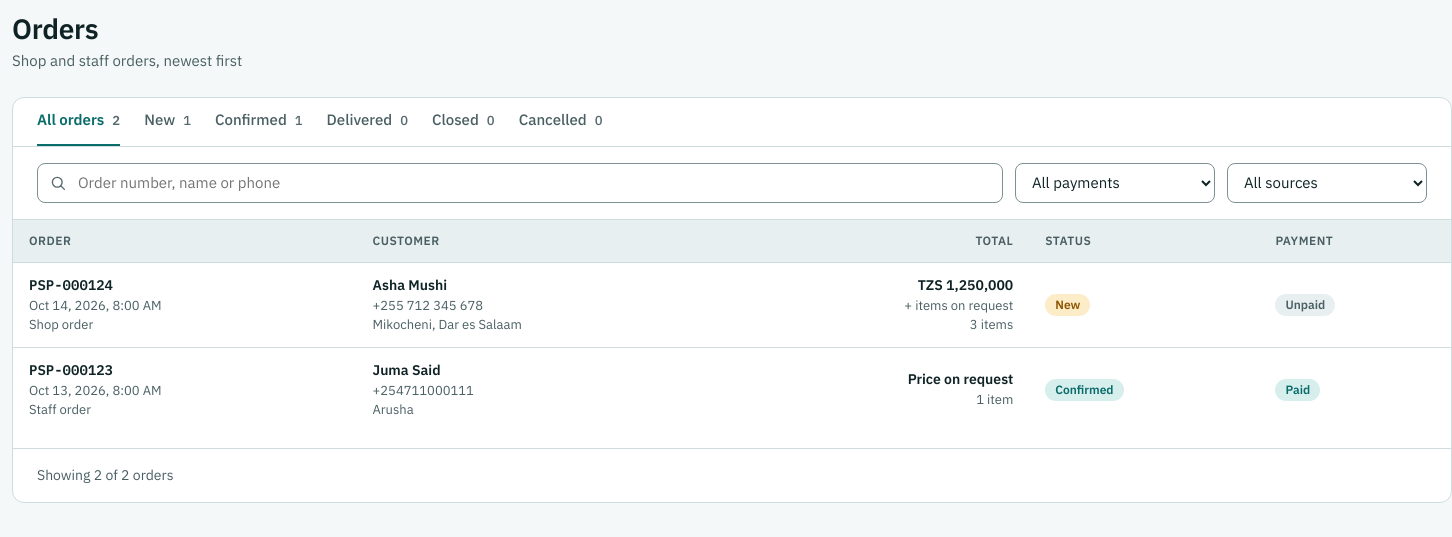
Test: OrdersList › says when nothing matches, and Clear filters brings the list back
Check: the table is shown, box [13, 220, 1451, 432]
Step 1. Select "Staff" in the 2nd dropdown named "Source" → (1327, 182), box [1227, 162, 1427, 202]
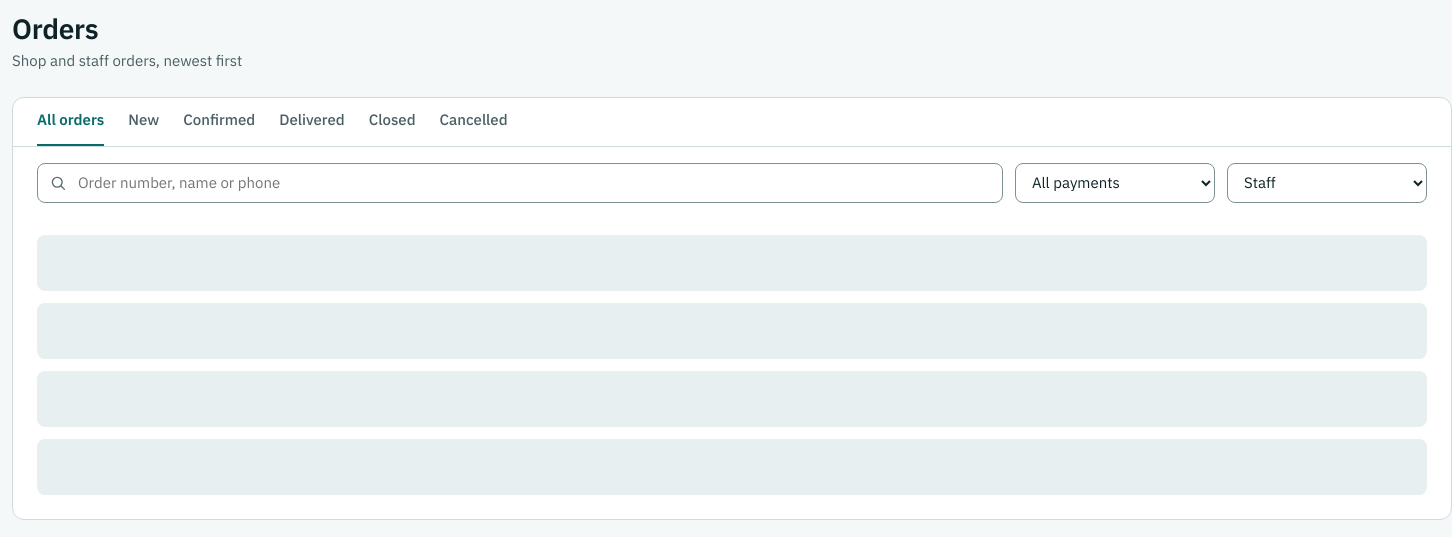
Step 2. Type "nobody" into the search field named "Search by order number, name or phone" → (520, 182), box [37, 162, 1003, 202]
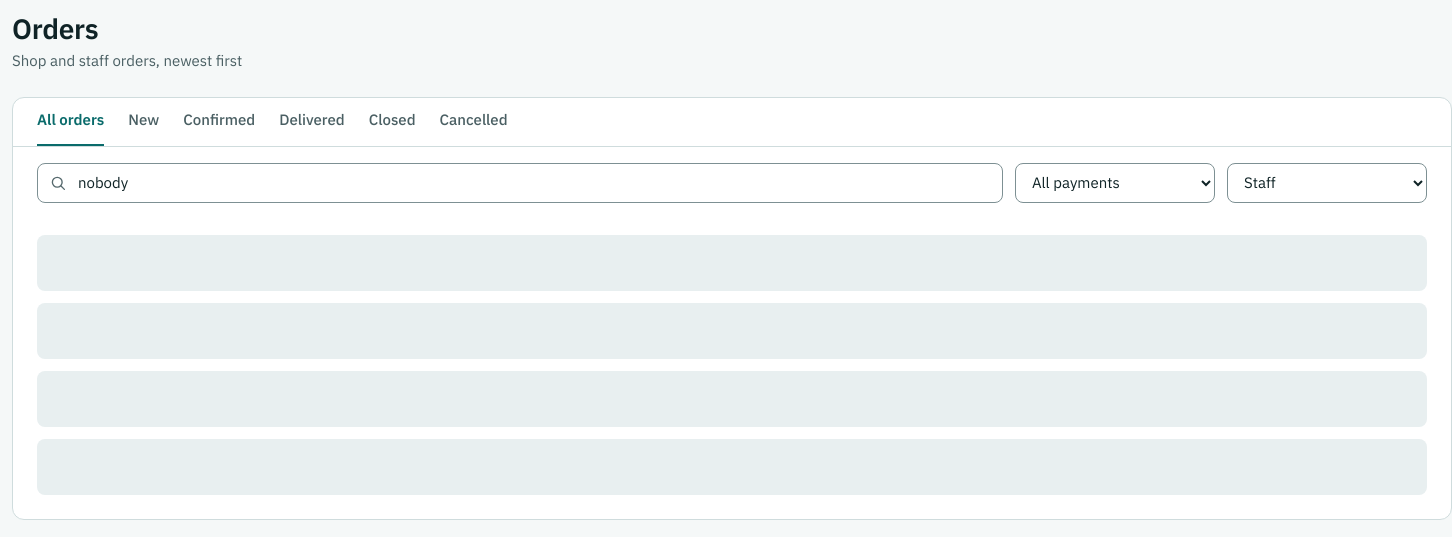
Step 3. Submit the form from the search field named "Search by order number, name or phone", box [37, 162, 1003, 202]
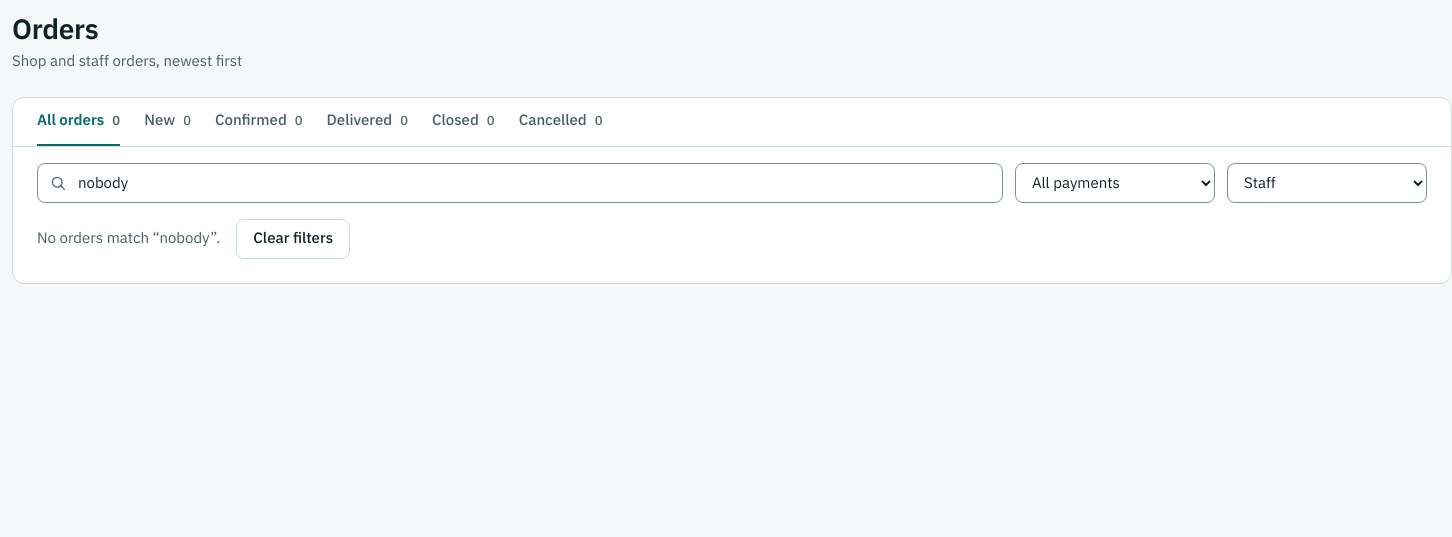
Check: the text "No orders match “nobody”." is shown, box [37, 227, 220, 250]
Step 4. Click the button "Clear filters" → (293, 238), box [236, 218, 350, 258]
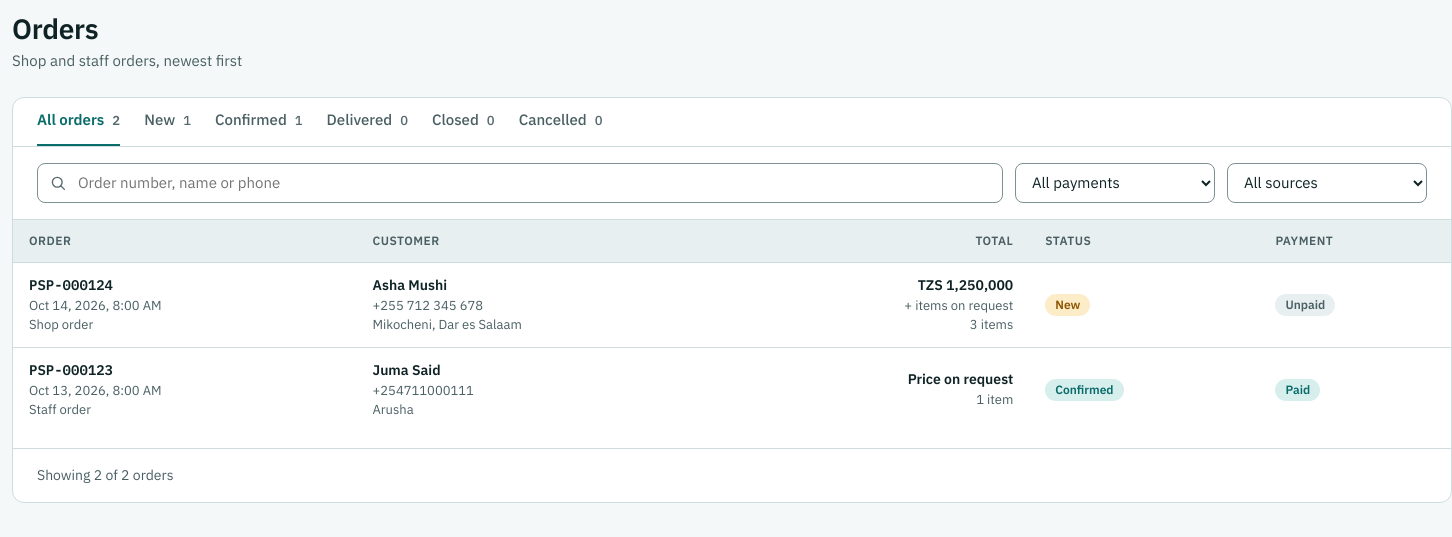
Check: the table is shown, box [13, 220, 1451, 432]
Check: the search field named "Search by order number, name or phone" is empty, box [37, 162, 1003, 202]
